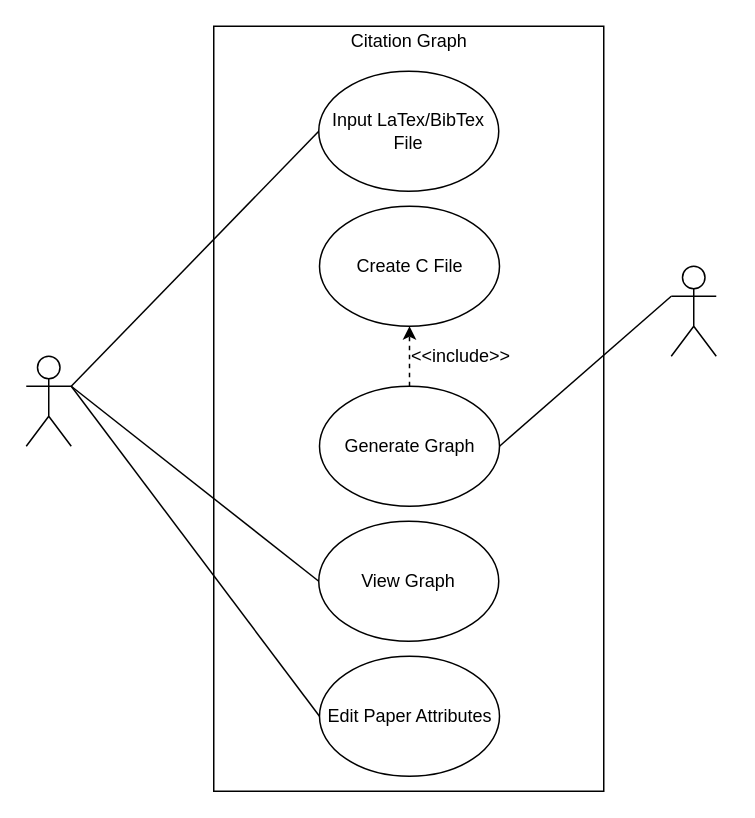
Some shapes in this 755 by 818 pixel diagram are drawn without their labels. Each missing label, with the box of its shape:
Doxygen: (670, 265, 716, 356)
User: (25, 355, 71, 446)
